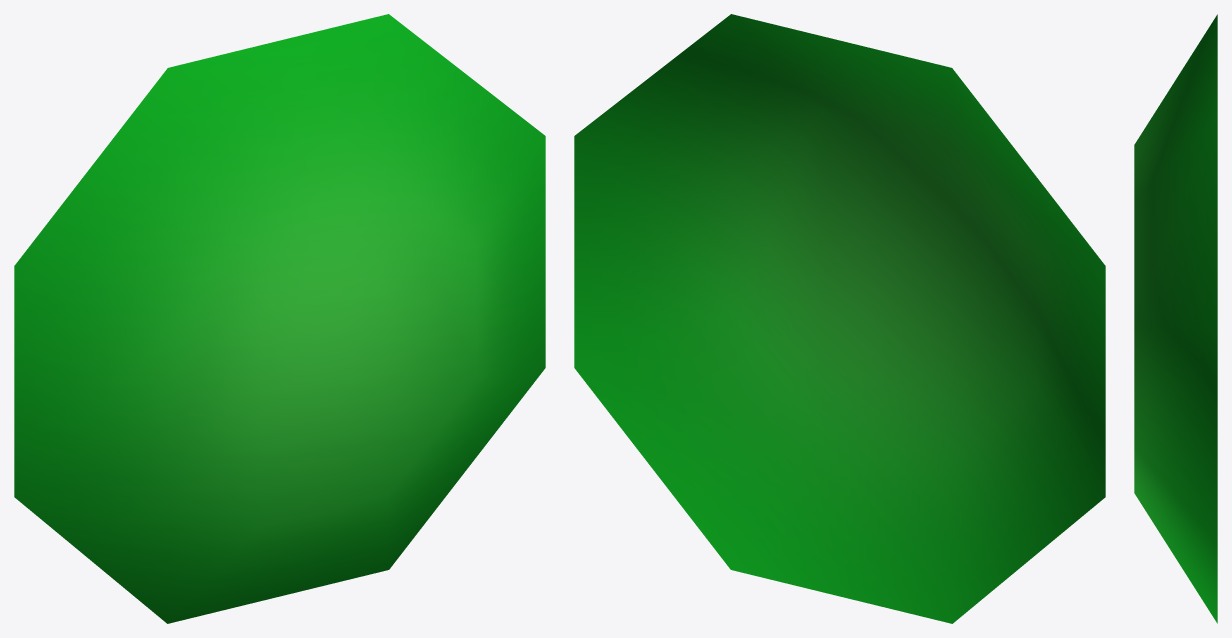
File: sensor_indicator.fbx
3 renders of one model, left to right at view 1: azimuth 30°, elevation 25°; view 2: azimuth 150°, elevation 25°; view 3: azimuth 270°, elevation 25°, orthographic. The views are drawn at different scales.
Parts seen in each view (by area): view 1: indicator; view 2: indicator; view 3: indicator.
Boxes of the visible parts, x1,y1,x2,y2 form: indicator: [14, 14, 545, 623]; indicator: [574, 14, 1105, 623]; indicator: [1134, 14, 1217, 623].
Bounding box in the file's own units: 22.23 × 22.23 × 3.28.
